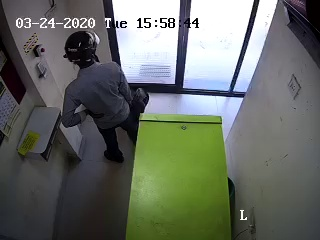helmet: (62, 31, 105, 72)
